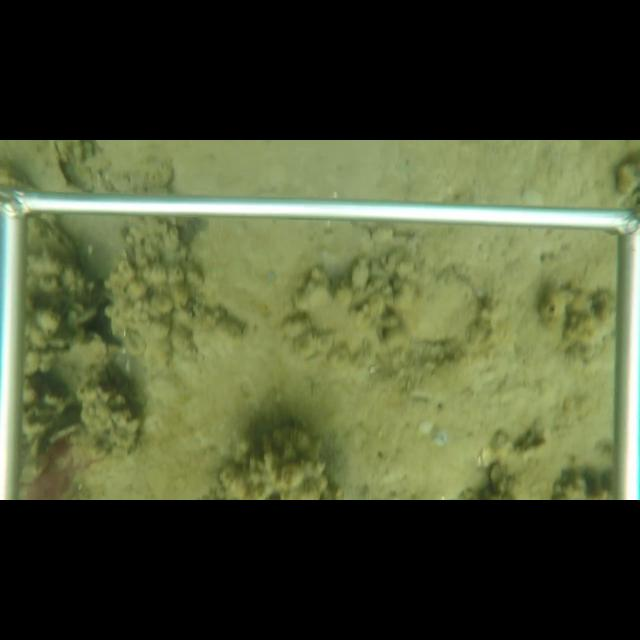Oyster-Closed: (394, 262, 485, 345)
